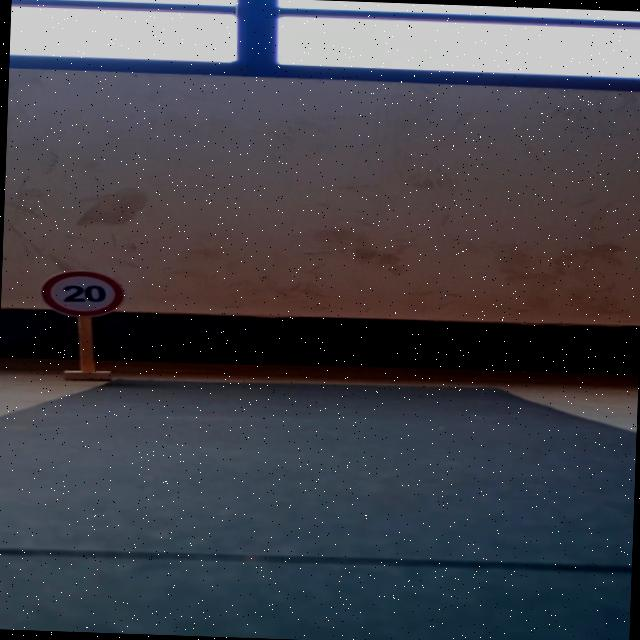Speed20: (32, 264, 132, 324)
